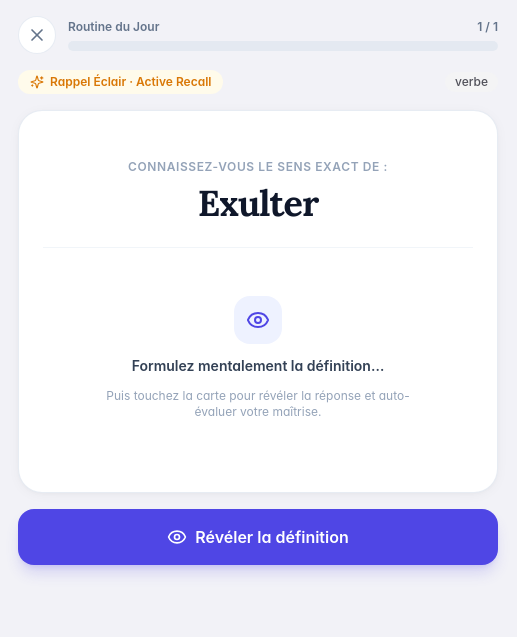
Test: routine transitions › keeps a forgotten final flashcard available for its promised retry
This screenshot has width=517, height=637.
Click the text "Formulez mentalement la définition…".
click(258, 366)  # box [132,356,384,376]
Wait 3000 ms
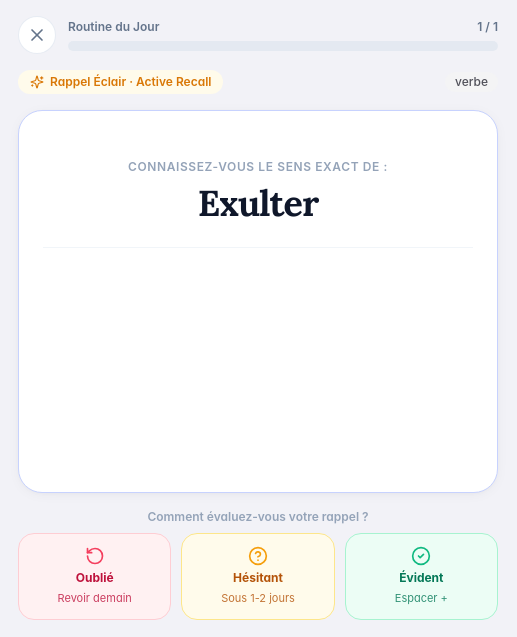
Click the button "Oublié Revoir demain".
click(95, 576)  # box [18,533,171,620]
Wait 3000 ms
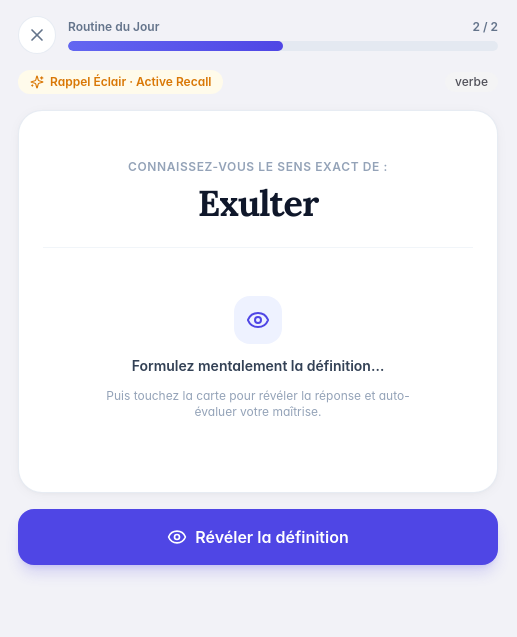
Expected: the text "Formulez mentalement la définition…" is shown, [132,356,384,376]
